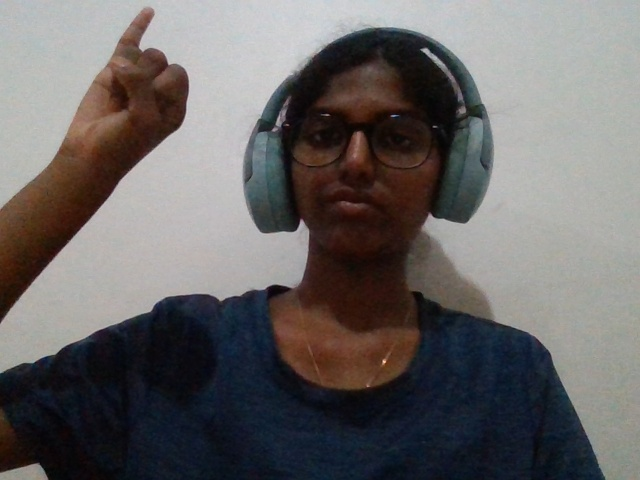I: (44, 4, 218, 219)
